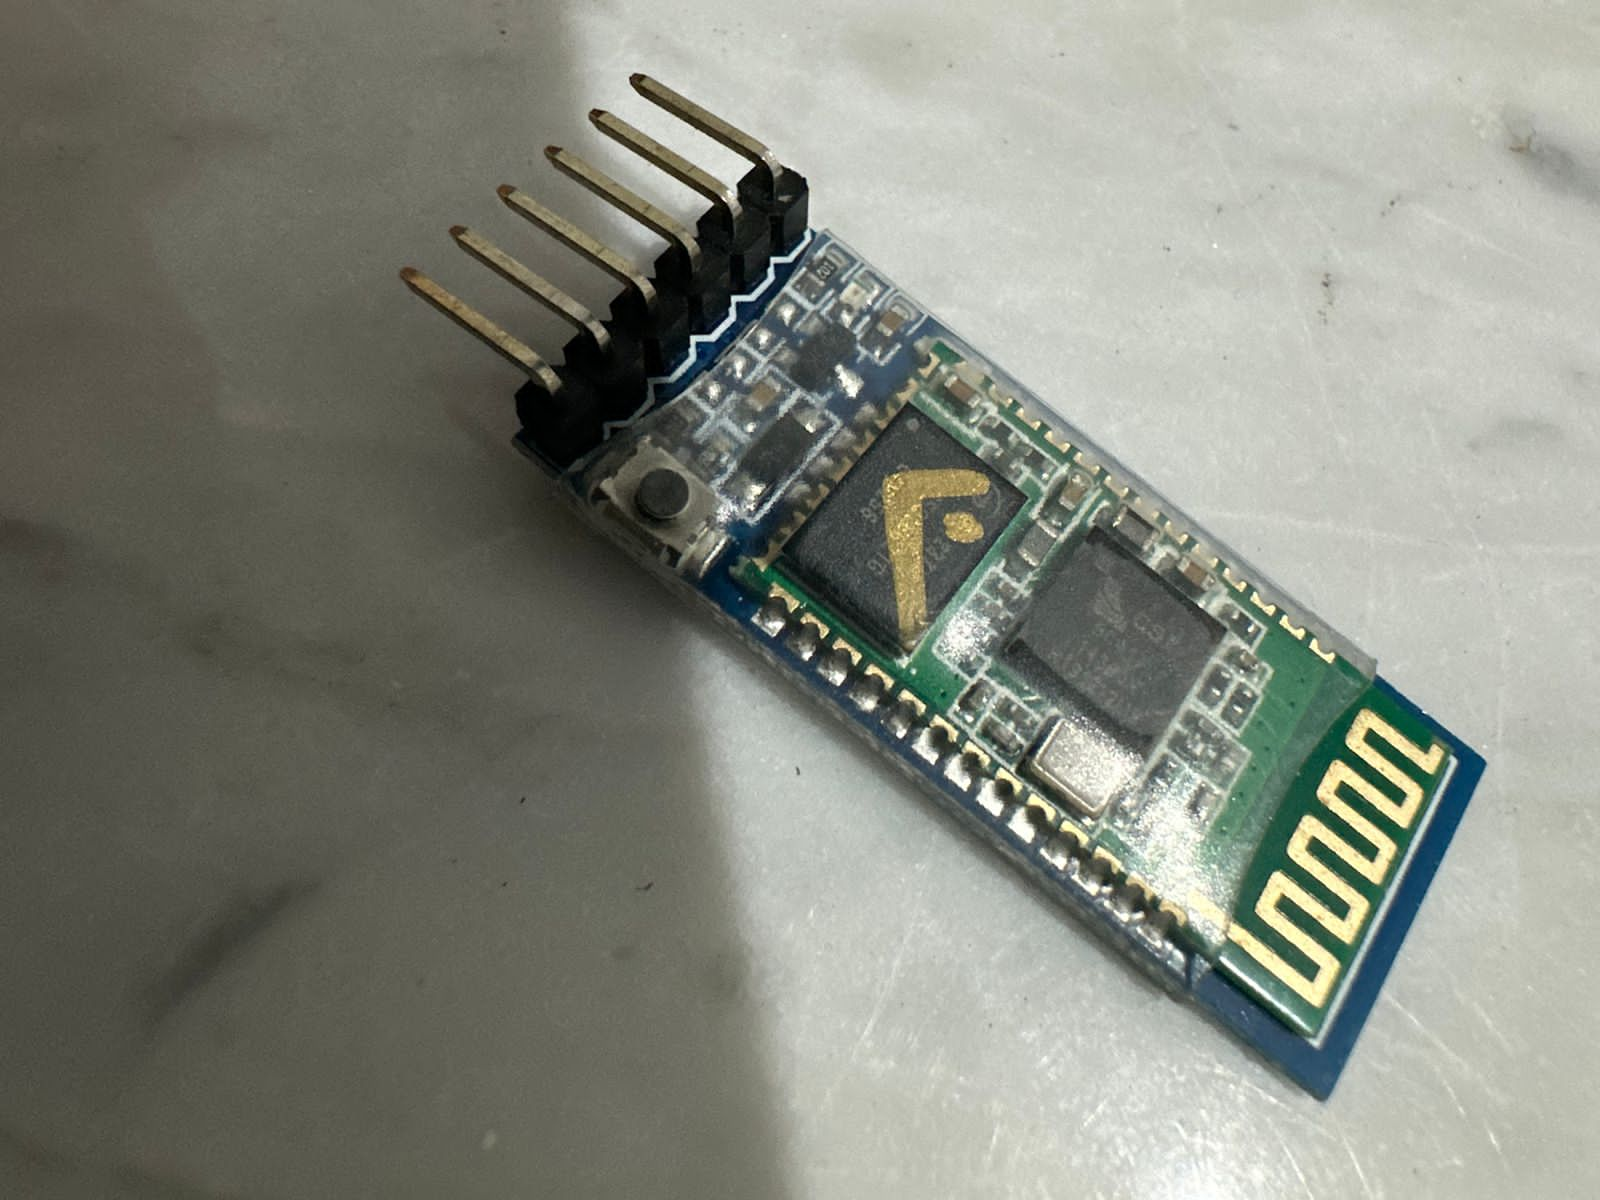module-bluetooth: (377, 59, 1499, 1105)
